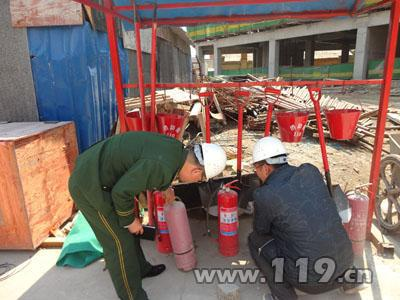helmet: (176, 137, 230, 192), (250, 135, 287, 179)
